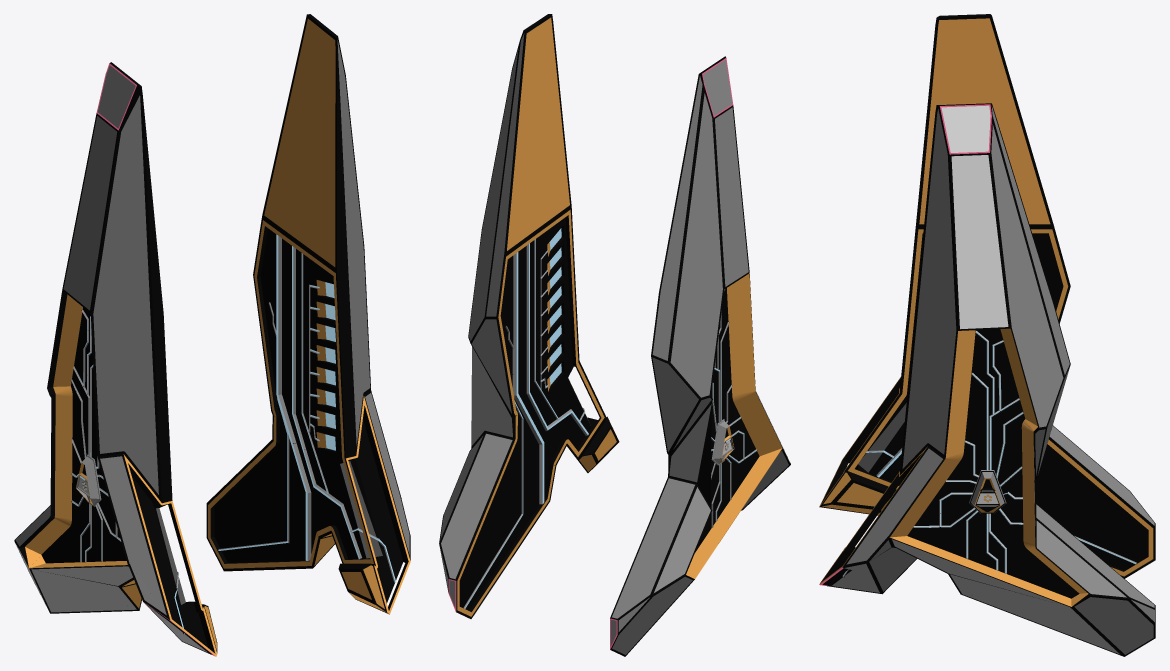
Rendered from relic_02.glb.
3 renders of one model, left to right at view 1: azimuth 30°, elevation 25°; view 2: azimuth 150°, elevation 25°; view 3: azimuth 270°, elevation 25°, orthographic. The views are drawn at different scales.
Visible parts, largest first — view 1: Relic, emission_01; view 2: Relic, emission_01; view 3: Relic, emission_01.
Part boxes in pixels (x1,y1,x2,y2): Relic: (14, 14, 410, 656); emission_01: (71, 63, 395, 656); Relic: (439, 14, 790, 656); emission_01: (448, 58, 756, 649); Relic: (819, 14, 1155, 656); emission_01: (819, 104, 1136, 585).
Size of the model in its own units: 25.13 by 53.27 by 29.08.
Materials: 2 (2 with a texture image).
